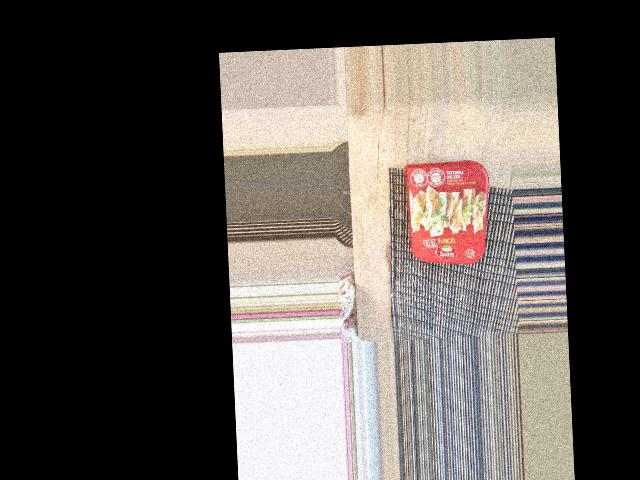cheese: (407, 152, 488, 271)
